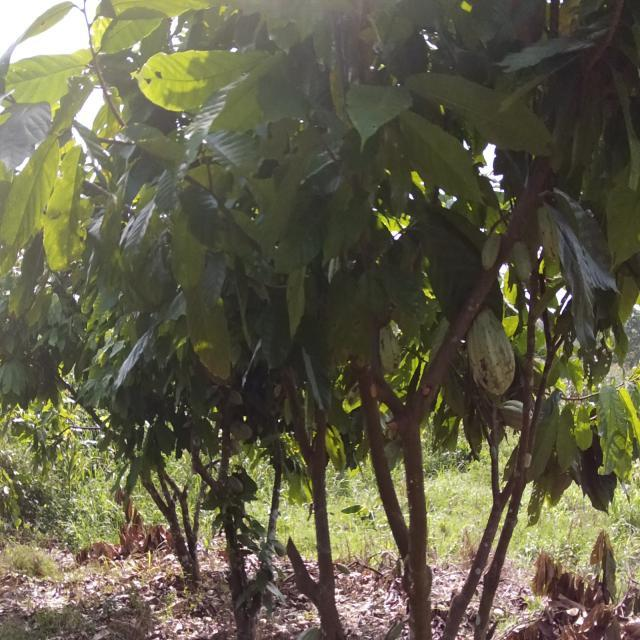Immature: (478, 224, 510, 292), (538, 205, 567, 265), (508, 234, 535, 290)
Mature_Unripe: (462, 302, 527, 406), (378, 324, 406, 376), (227, 423, 251, 457), (226, 474, 243, 501)
